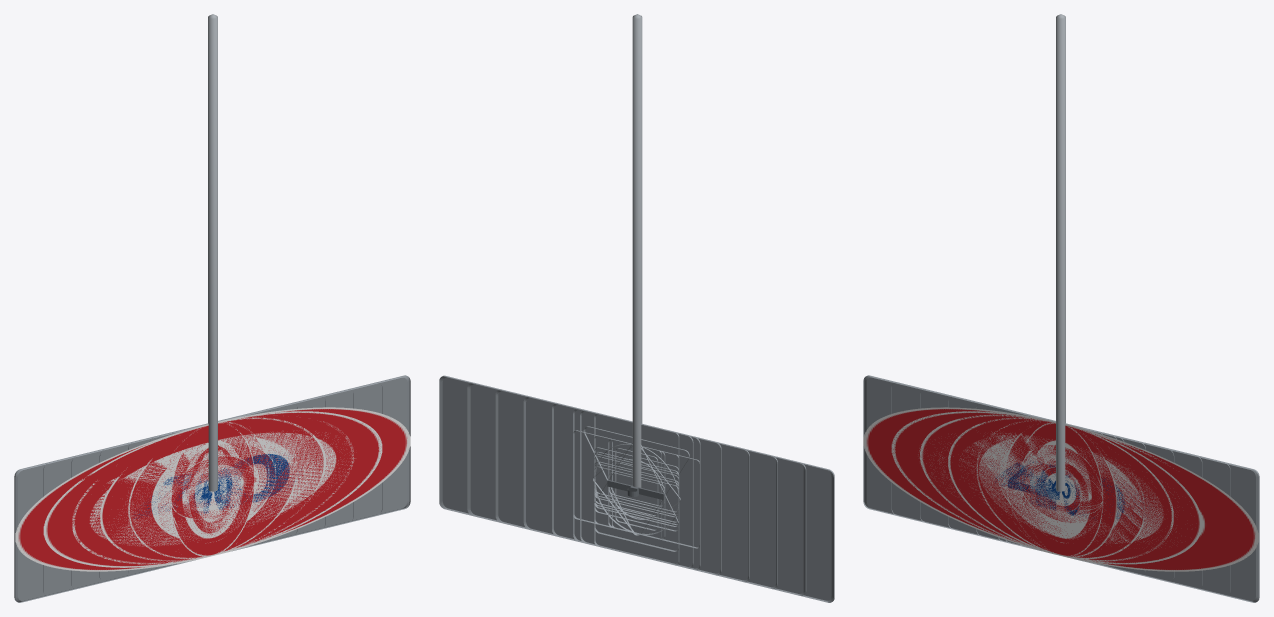
Rendered from signs.glb.
The picture shows the model from 3 angles, left to right: view 1: azimuth 30°, elevation 25°; view 2: azimuth 150°, elevation 25°; view 3: azimuth 330°, elevation 25°; orthographic projection.
Parts seen in each view (by area): view 1: PlateRect240x90, PlateRect280x90, PlateRect200x90, PlateRect160x90, PlateRect120x90, PlateRect60x90, Post, PlateRect, PlateAux60x44, PlatePentagon, PlateRect80x90, PlateRect90x60 (+1 smaller); view 2: PlateRect280x90, PlateRect120x90, PlateRect160x90, Post, PlatePentagon, PlateRect240x90, PlateDiamond, PlateRect200x90, PlateCircle, PlateAux60x44, PlateSquare, PlateBacker40x60 (+2 smaller); view 3: PlateRect280x90, PlateRect200x90, PlateRect160x90, PlateRect240x90, PlateRect120x90, PlateRect80x90, Post, PlateRect60x90, PlateAux30x30, PlateAux60x32, PlateCircle, PlateAux60x44 (+1 smaller).
Boxes of the visible parts, x1=… form: PlateRect240x90: x1=43, y1=382, x2=382, y2=595; PlateRect280x90: x1=14, y1=375, x2=410, y2=602; PlateRect200x90: x1=71, y1=389, x2=353, y2=589; PlateRect160x90: x1=99, y1=396, x2=325, y2=582; PlateRect120x90: x1=128, y1=403, x2=297, y2=575; PlateRect60x90: x1=171, y1=422, x2=255, y2=565; Post: x1=208, y1=14, x2=217, y2=491; PlateRect: x1=188, y1=445, x2=236, y2=534; PlateAux60x44: x1=182, y1=455, x2=255, y2=521; PlatePentagon: x1=173, y1=445, x2=251, y2=543; PlateRect80x90: x1=156, y1=410, x2=269, y2=568; PlateRect90x60: x1=224, y1=442, x2=275, y2=514; PlateRect280x90: x1=439, y1=375, x2=834, y2=602; PlateRect120x90: x1=552, y1=403, x2=721, y2=575; PlateRect160x90: x1=523, y1=397, x2=749, y2=582; Post: x1=632, y1=14, x2=642, y2=487; PlatePentagon: x1=594, y1=443, x2=678, y2=551; PlateRect240x90: x1=467, y1=382, x2=806, y2=595; PlateDiamond: x1=593, y1=446, x2=680, y2=535; PlateRect200x90: x1=495, y1=390, x2=777, y2=589; PlateCircle: x1=594, y1=443, x2=678, y2=534; PlateAux60x44: x1=594, y1=447, x2=679, y2=531; PlateSquare: x1=594, y1=435, x2=679, y2=543; PlateBacker40x60: x1=608, y1=439, x2=665, y2=539; PlateRect280x90: x1=863, y1=375, x2=1259, y2=602; PlateRect200x90: x1=920, y1=389, x2=1202, y2=589; PlateRect160x90: x1=948, y1=396, x2=1174, y2=582; PlateRect240x90: x1=891, y1=382, x2=1230, y2=595; PlateRect120x90: x1=976, y1=403, x2=1145, y2=575; PlateRect80x90: x1=1004, y1=410, x2=1117, y2=568; Post: x1=1056, y1=14, x2=1065, y2=491; PlateRect60x90: x1=1019, y1=422, x2=1103, y2=565; PlateAux30x30: x1=1041, y1=466, x2=1081, y2=512; PlateAux60x32: x1=1021, y1=464, x2=1102, y2=515; PlateCircle: x1=1020, y1=444, x2=1102, y2=529; PlateAux60x44: x1=1020, y1=456, x2=1101, y2=523.
Bounding box in the file's own units: 2.8 × 3.67 × 0.1165.
4 materials, 1 textured.
